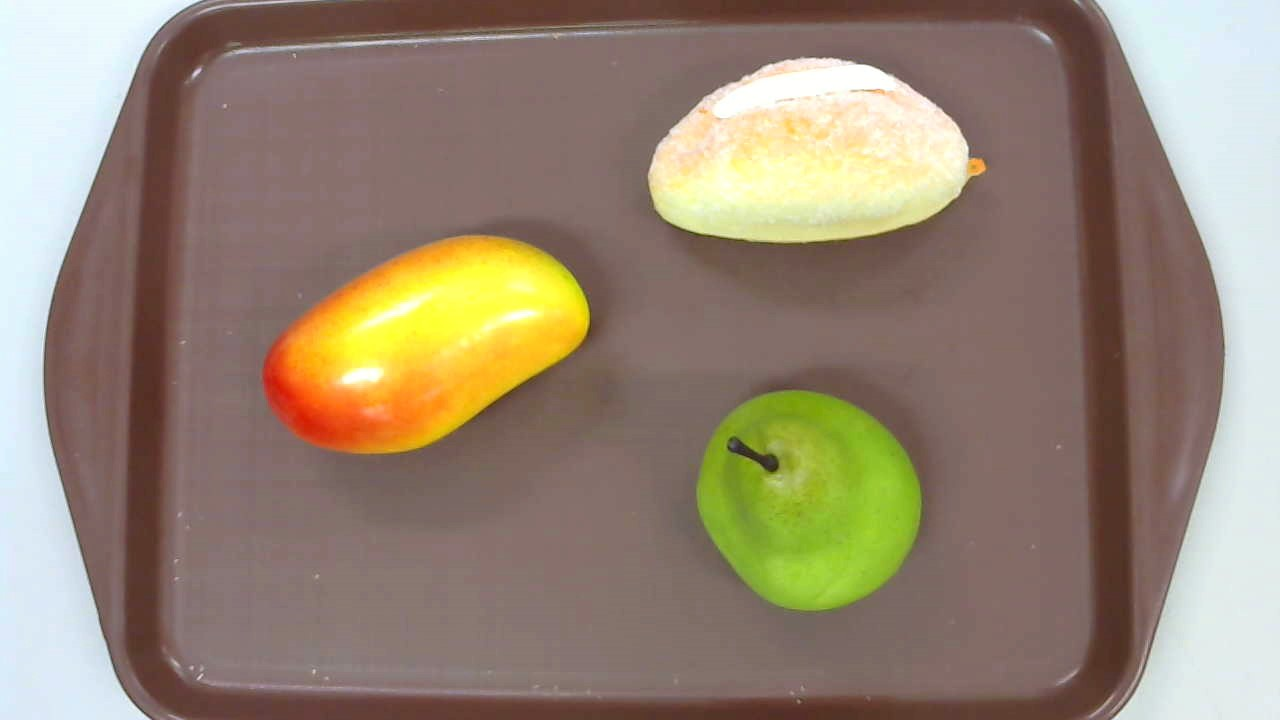coconut: (647, 57, 985, 243)
green pear: (696, 390, 921, 613)
red mango: (263, 234, 591, 454)
